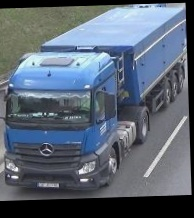truck: (0, 7, 189, 192)
